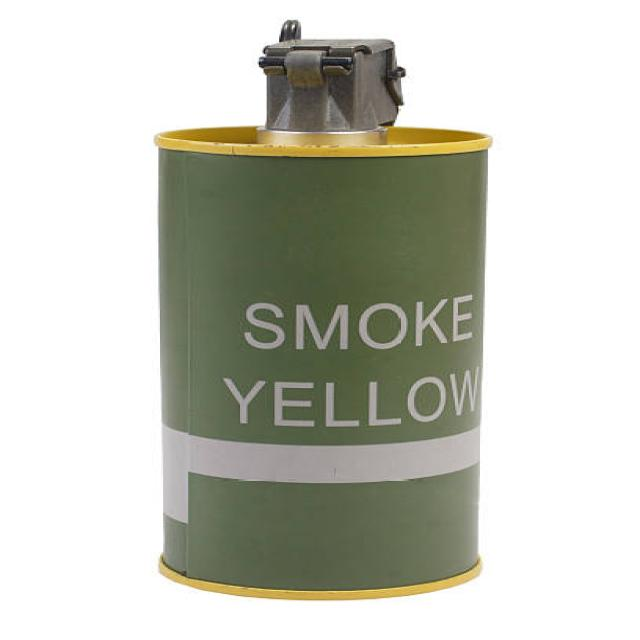grenade: (141, 17, 506, 605)
